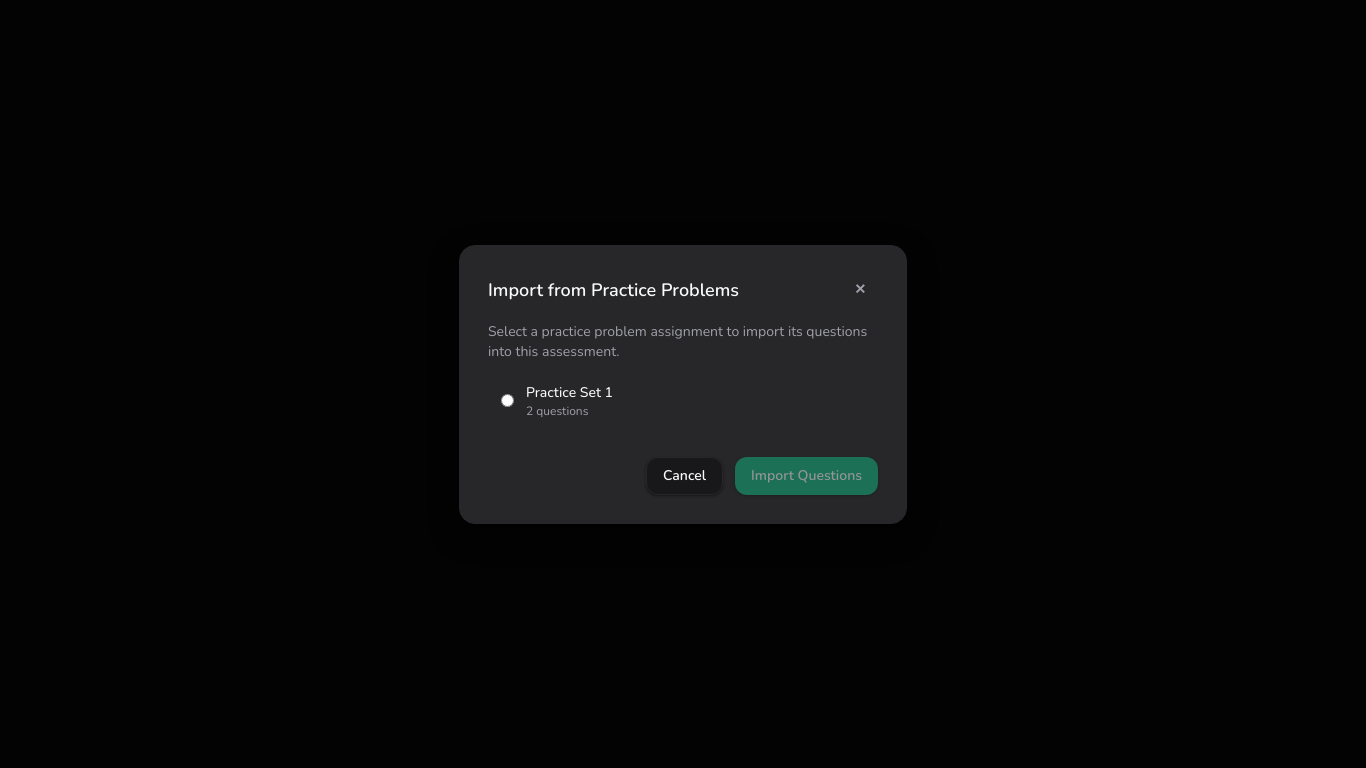
Scenario: ImportQuestionsModal › assignment list › selecting a radio enables the Import button
Expected: the button "Import Questions" is disabled, [735,456,878,494]
Step 1. Click the radio button labelled "Practice Set 1 2 questions" → coordinates (508, 400), box [501,394,514,407]
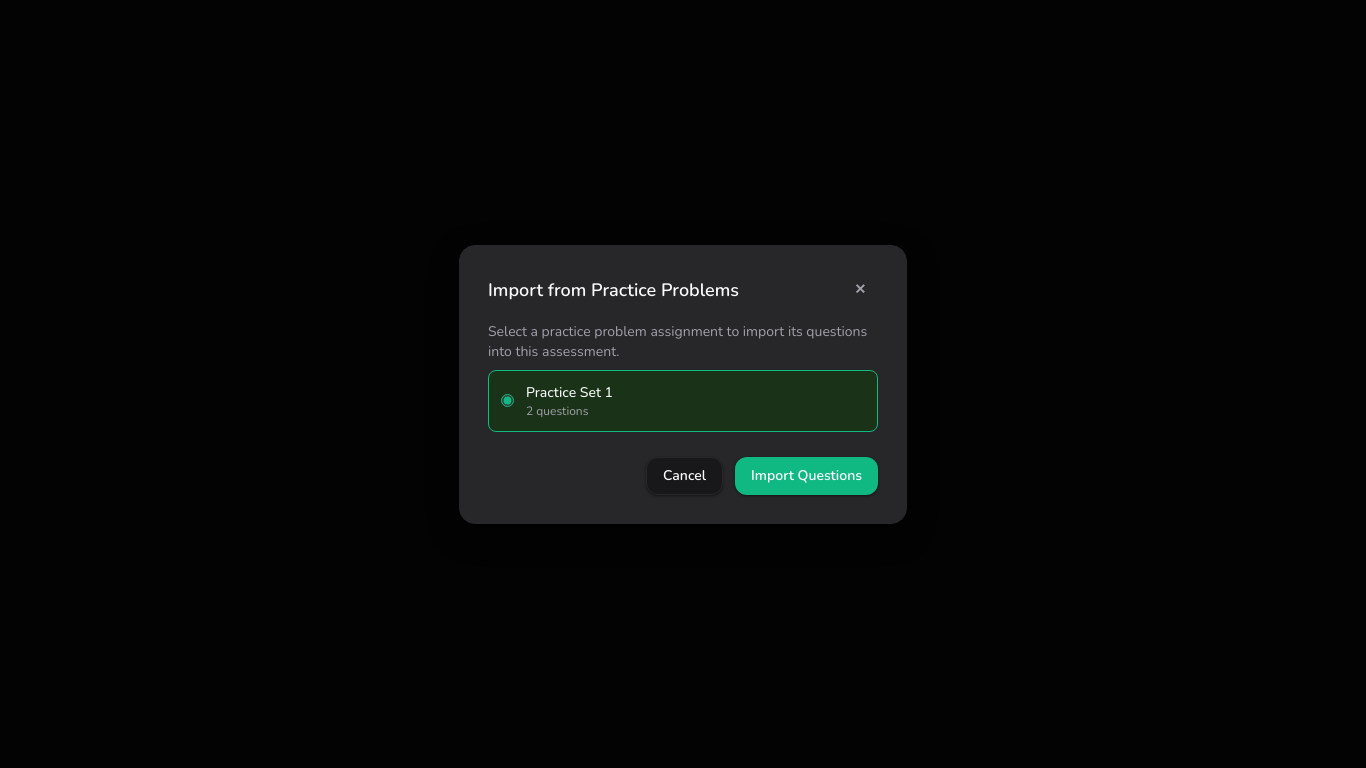
Expected: the button "Import Questions" is enabled, [735,456,878,494]
